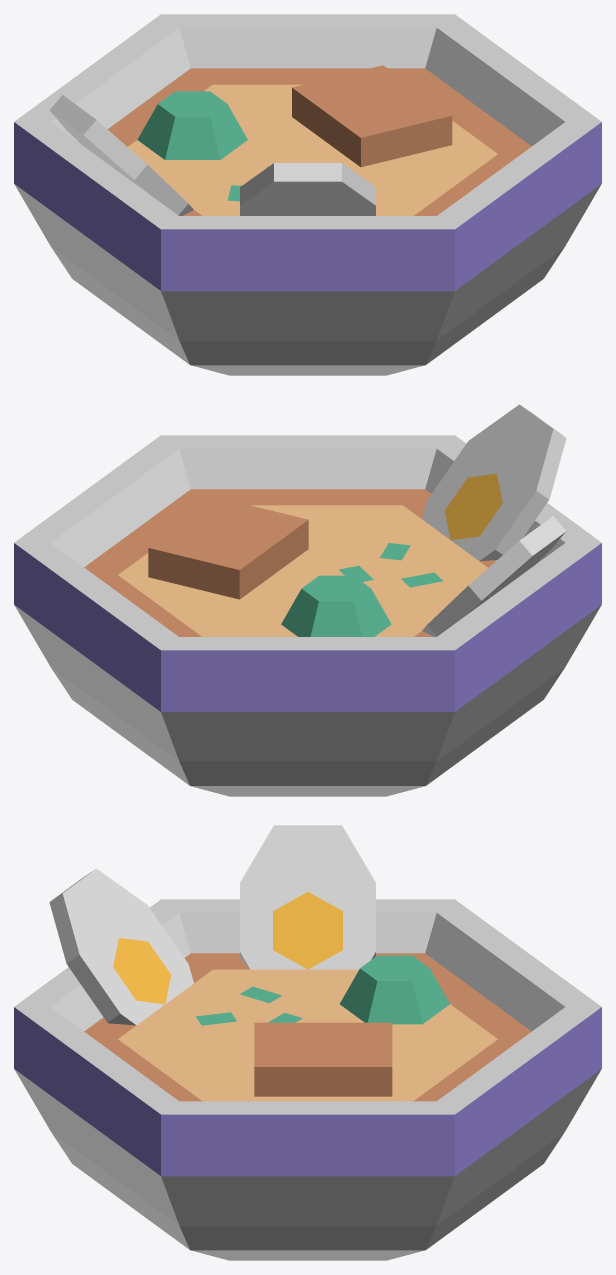
File: bowlBroth.fbx
3 views of the same model, one above another, from view 1: azimuth 30°, elevation 25°; view 2: azimuth 150°, elevation 25°; view 3: azimuth 270°, elevation 25° (orthographic).
Parts seen in each view (by area): view 1: bowlBroth, Group (×2); view 2: bowlBroth, Group (×2); view 3: bowlBroth, Group (×2).
Part boxes in pixels (x1=…): bowlBroth: x1=14, y1=14, x2=601, y2=375; Group (×2): x1=49, y1=95, x2=375, y2=215; bowlBroth: x1=14, y1=435, x2=601, y2=796; Group (×2): x1=422, y1=404, x2=566, y2=636; bowlBroth: x1=14, y1=899, x2=601, y2=1260; Group (×2): x1=49, y1=825, x2=375, y2=1025.
Size of the model in its own units: 5.26 by 2.9 by 5.8.
